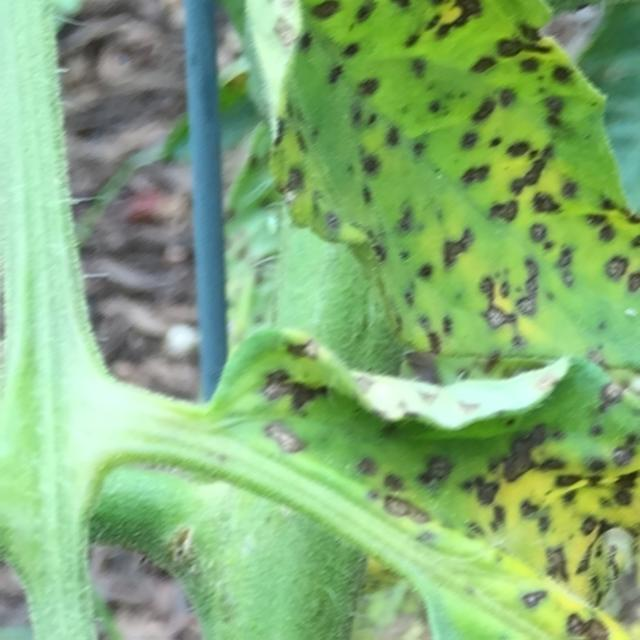Tomato Septoria leaf spot: (87, 0, 640, 392), (176, 354, 640, 640)
